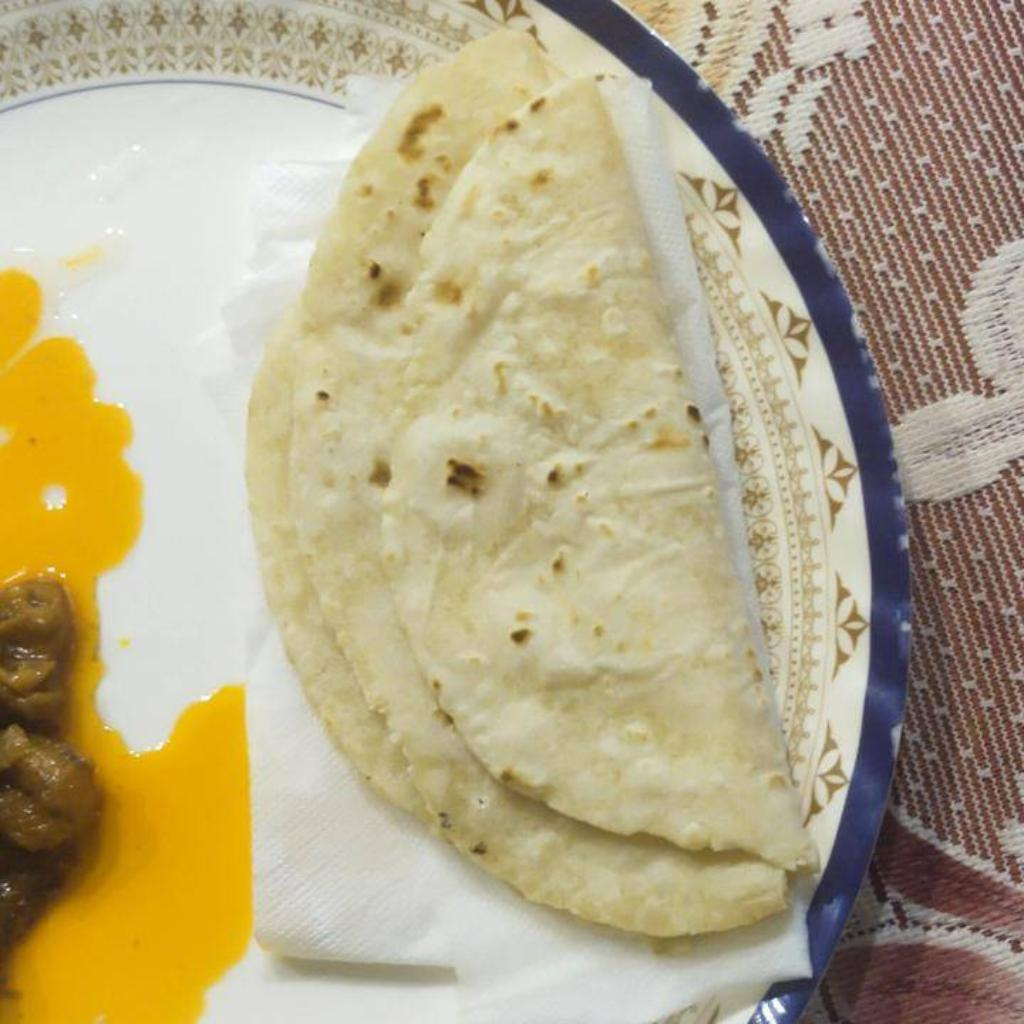beef: (0, 573, 100, 952)
ruti: (246, 14, 819, 936)
